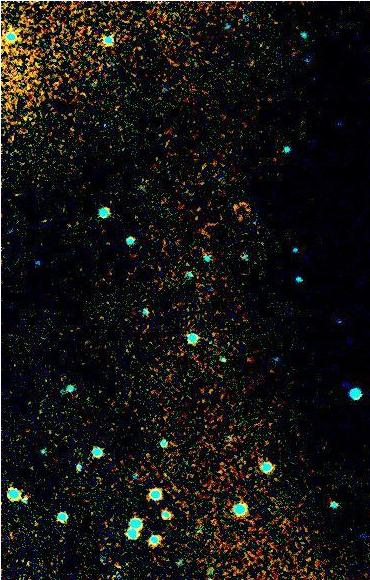star: (220, 191, 250, 221)
